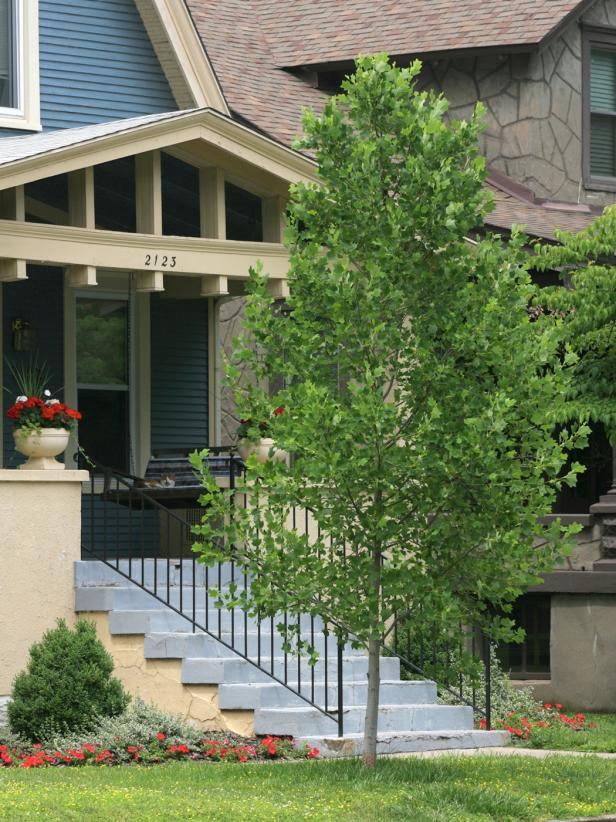bush: (8, 623, 141, 741)
tree: (183, 51, 583, 761)
